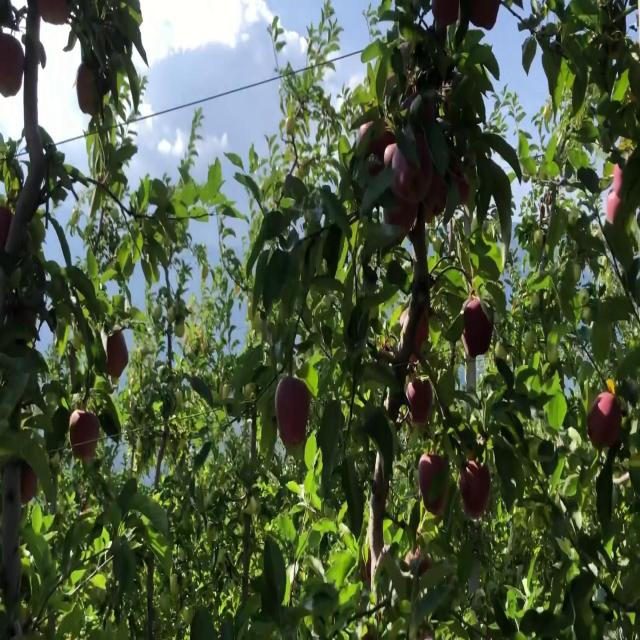apple: (275, 376, 310, 447), (588, 391, 621, 449), (419, 453, 449, 516), (405, 133, 432, 202), (462, 298, 492, 358), (460, 460, 491, 518), (0, 33, 25, 98), (70, 409, 100, 460), (76, 62, 100, 116), (384, 196, 419, 231), (406, 378, 432, 424), (384, 142, 404, 200), (106, 329, 129, 378), (424, 171, 446, 221), (470, 0, 501, 31), (606, 164, 622, 224), (368, 127, 395, 162), (415, 89, 438, 124), (38, 0, 70, 24), (432, 0, 459, 27), (20, 464, 38, 504), (414, 309, 429, 356), (0, 204, 12, 250), (606, 189, 621, 224), (454, 173, 470, 203), (356, 122, 375, 144), (400, 156, 416, 170), (399, 309, 408, 328), (409, 200, 417, 210)
